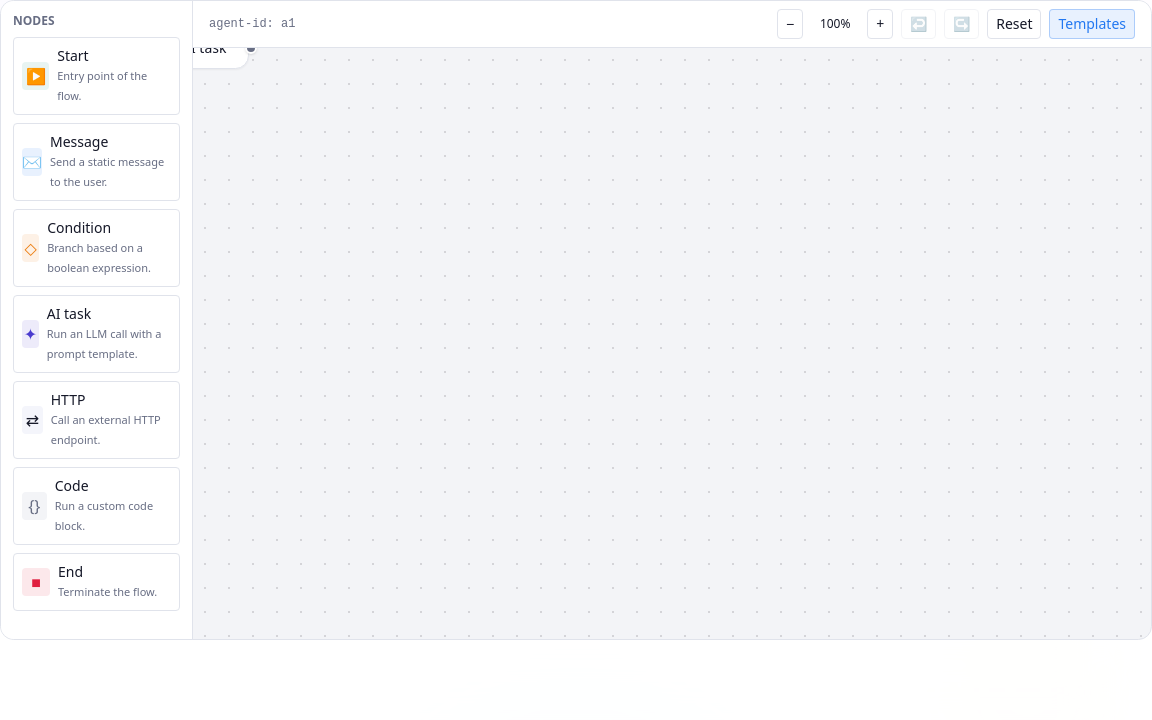
Node config sidebar › ai-task validates required prompt and model
Click the button with test id "flow-node-ai-task-1" at point(193, 48), box x1=137 y1=27 x2=249 y2=69
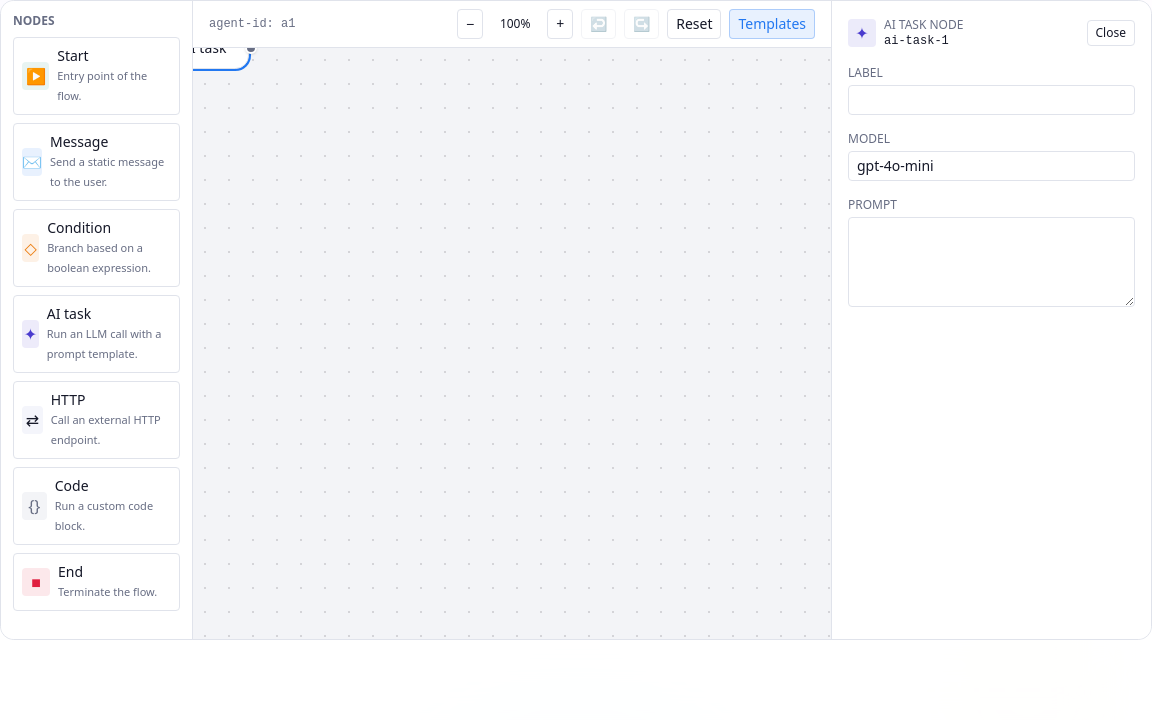
Leave the text box with test id "node-config-prompt-input", box x1=848 y1=217 x2=1135 y2=307
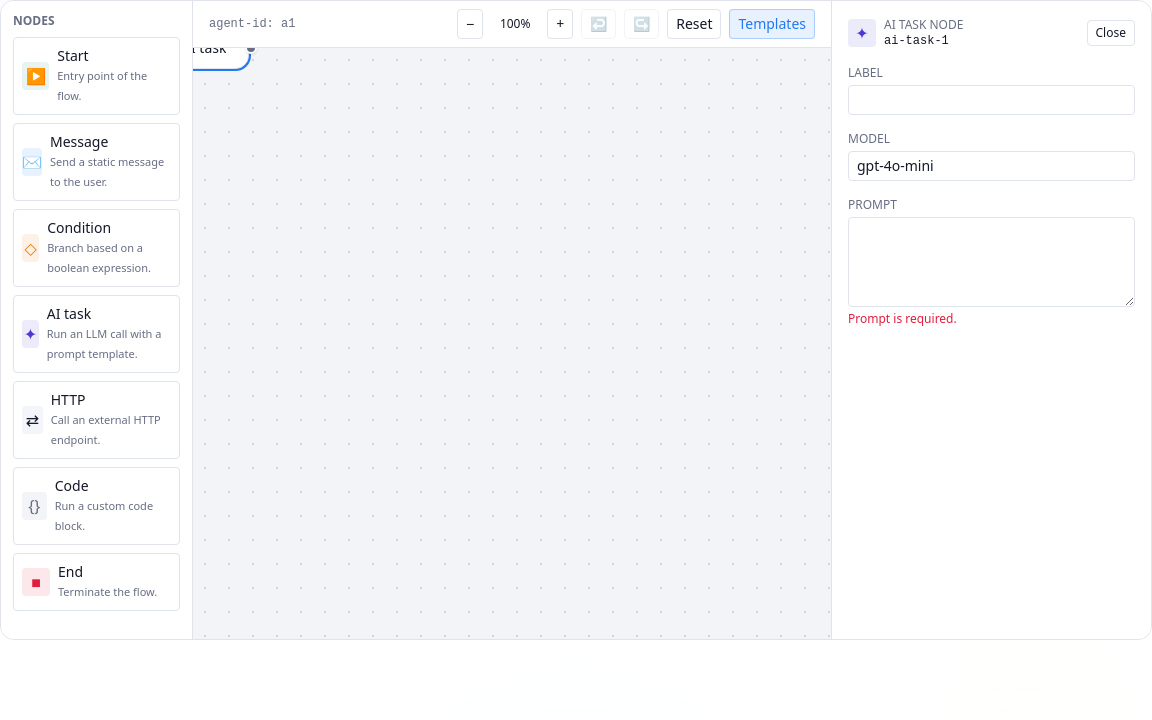
expect the message with test id "node-config-prompt-error" shows "required": met, box x1=848 y1=310 x2=957 y2=327
